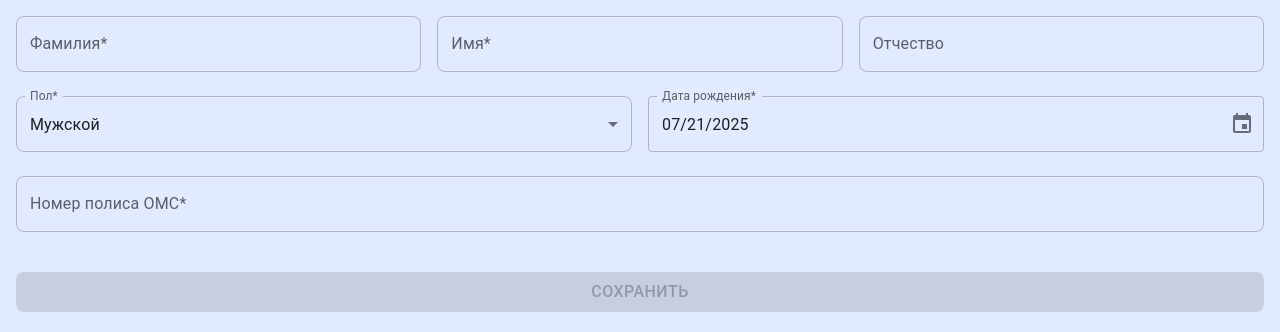
Test: PatientForm › должен активировать кнопку 'Сохранить' когда форма валидна и изменена (valid and dirty)
The width and height of the screenshot is (1280, 332).
Type "Иванов" into the field labelled "Фамилия*" at (219, 44), box [16,16,421,72]
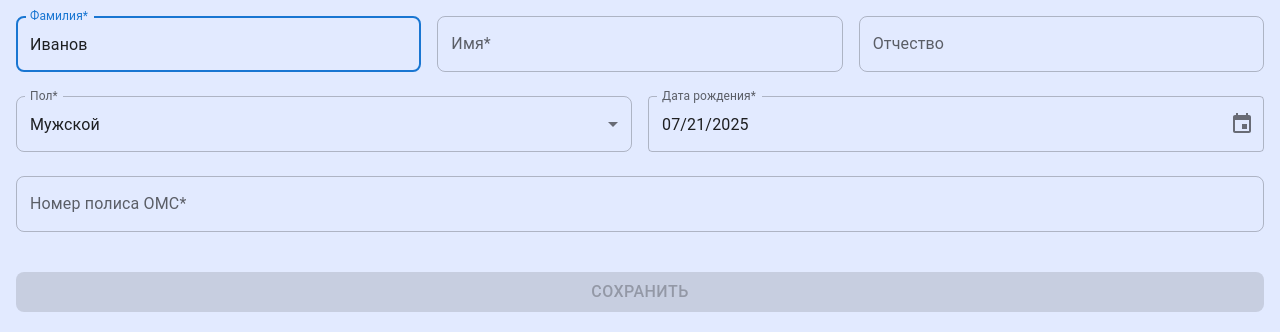
Type "Иван" into the field labelled "Имя*" at (640, 44), box [437,16,843,72]
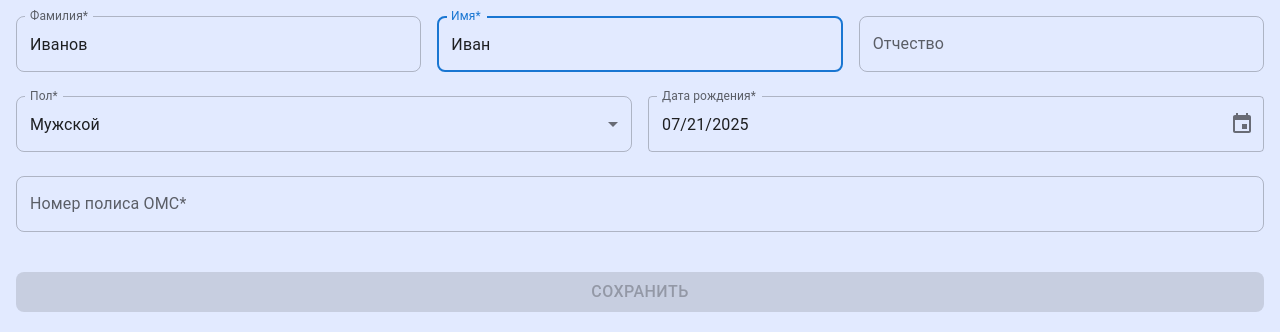
Type "1234567890123456" into the field labelled "Номер полиса ОМС*" at (640, 204), box [16,176,1264,232]
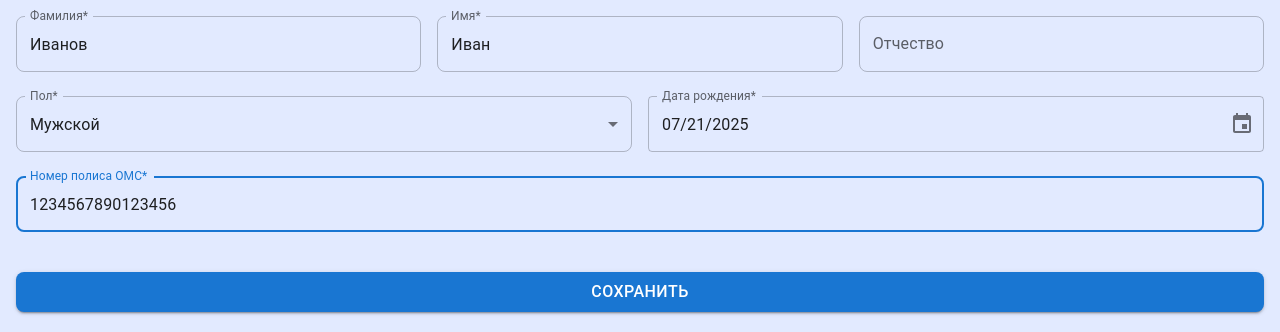
expect the button "Сохранить" is enabled: met, box [16,272,1264,312]
